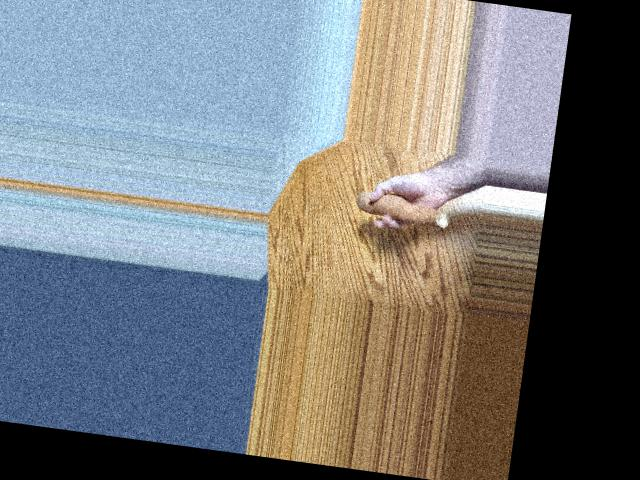sweet_potato: (360, 188, 444, 229)
